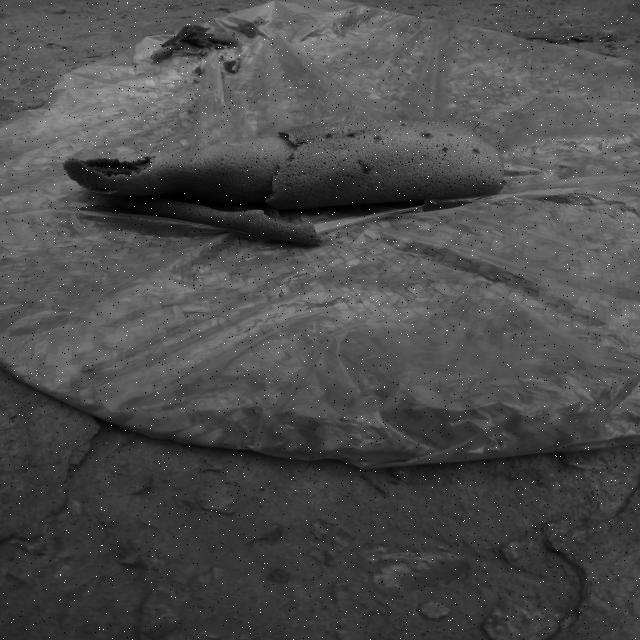injera_mold: (352, 159, 373, 174), (417, 130, 435, 140), (324, 132, 335, 142), (469, 148, 483, 154), (431, 121, 443, 128), (373, 135, 383, 143), (444, 131, 454, 139), (286, 153, 294, 163), (442, 145, 449, 154), (346, 132, 354, 139), (400, 123, 408, 128)
